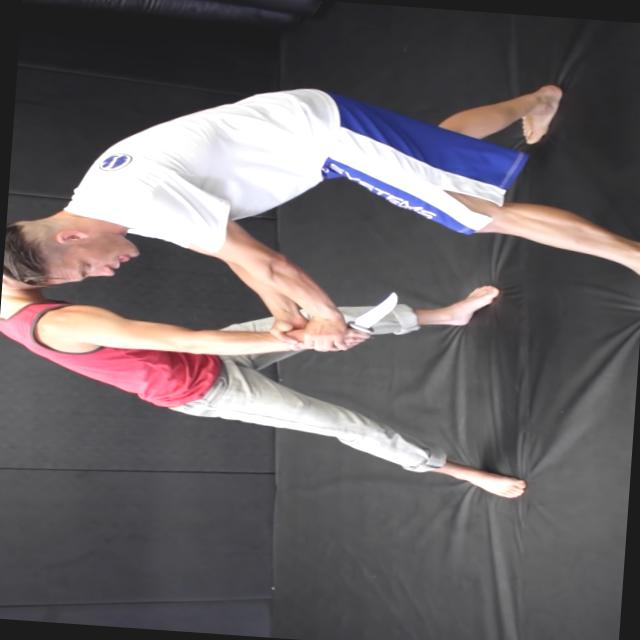knife: (342, 282, 404, 356)
